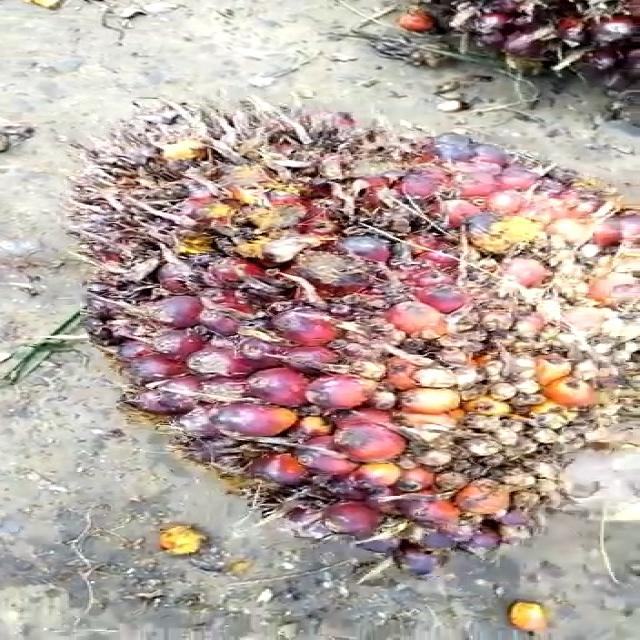palm oil: (70, 95, 640, 563)
